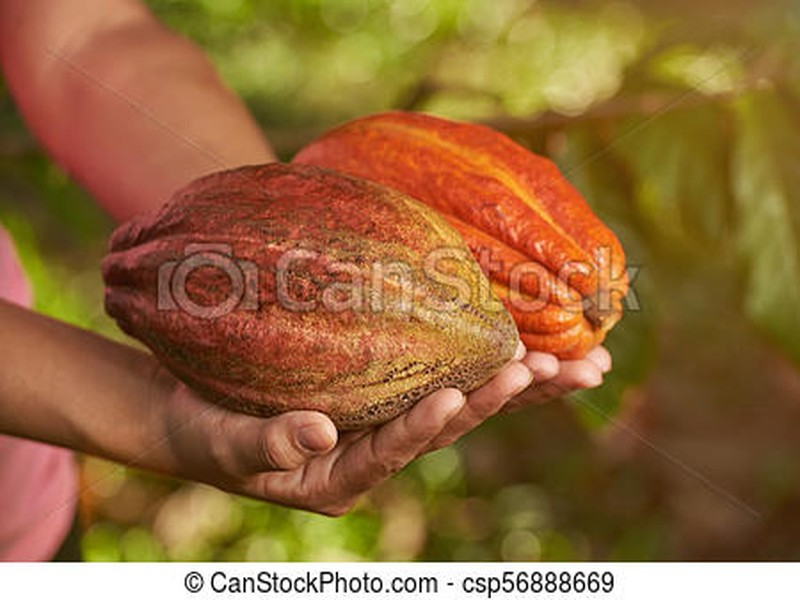Cacaopod: (98, 160, 527, 429)
